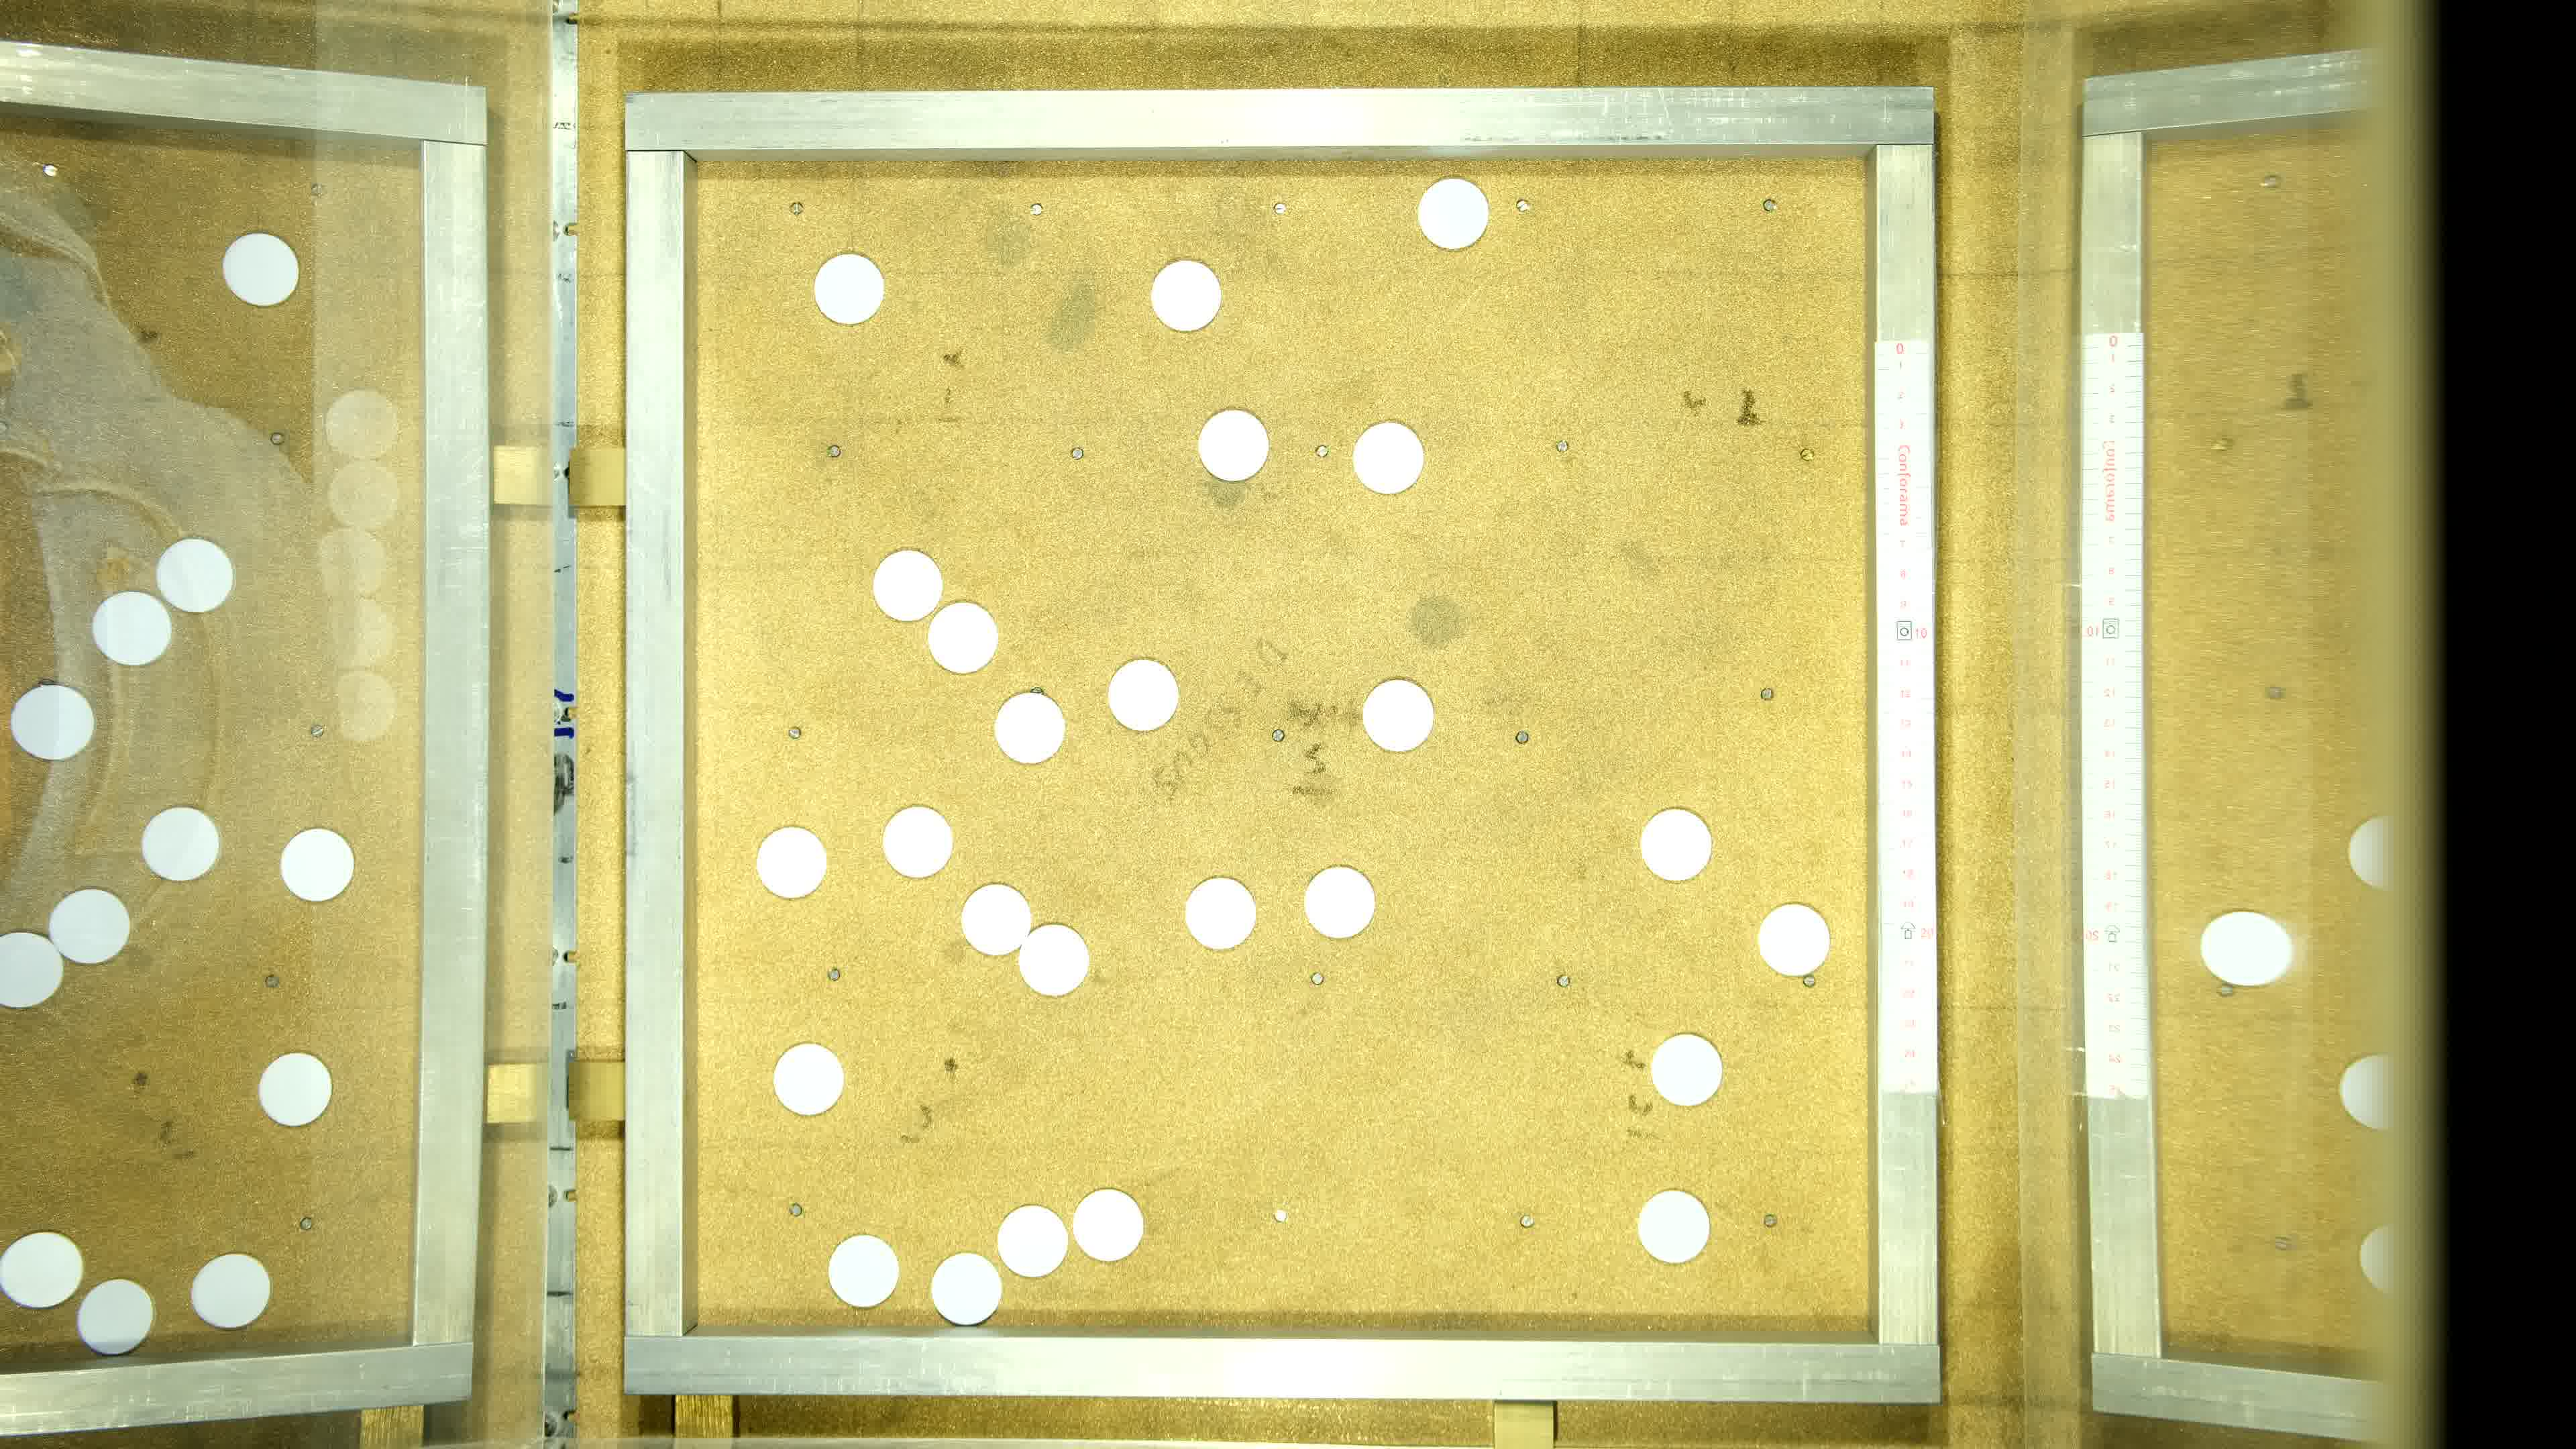pallet: (814, 251, 886, 327), (1306, 863, 1378, 939), (1184, 870, 1256, 947), (1023, 922, 1095, 998), (959, 885, 1031, 961), (885, 803, 957, 879), (754, 826, 826, 902), (773, 1040, 846, 1116), (1072, 1189, 1145, 1265), (1649, 1033, 1721, 1109), (1637, 807, 1709, 883), (1757, 904, 1829, 980), (1366, 676, 1438, 752), (1104, 651, 1177, 727), (929, 596, 1001, 672), (874, 547, 947, 623), (1352, 421, 1424, 497), (1152, 260, 1224, 336), (1415, 177, 1488, 253), (927, 1249, 1000, 1323), (996, 1205, 1069, 1279), (1635, 1189, 1707, 1263), (1200, 409, 1272, 483), (828, 1235, 899, 1311), (993, 695, 1067, 764)
